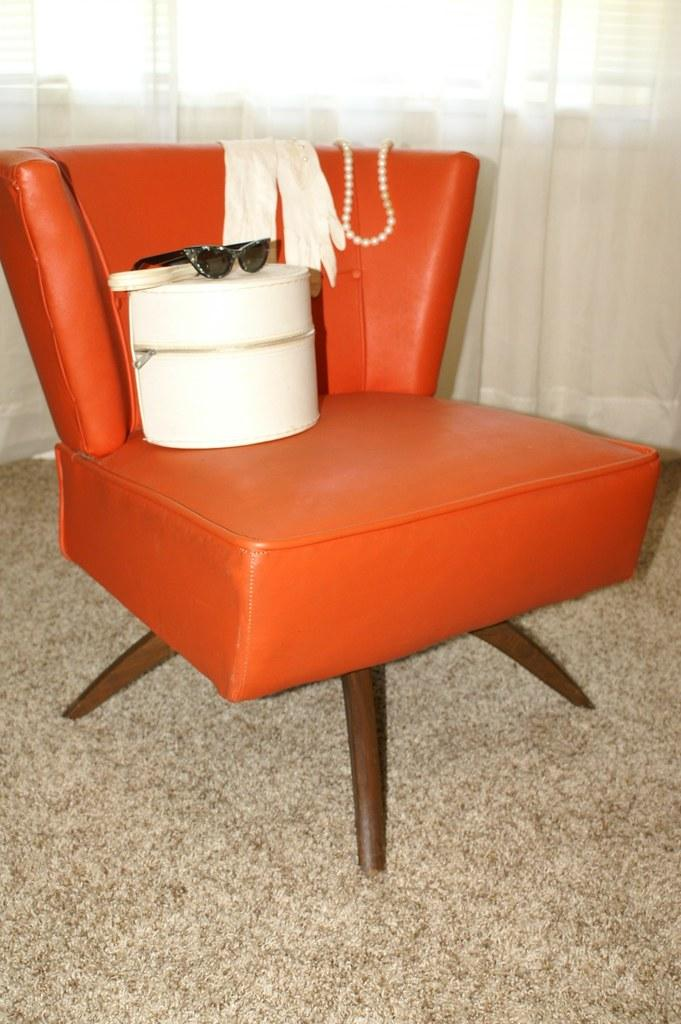chair: (1, 138, 662, 875)
